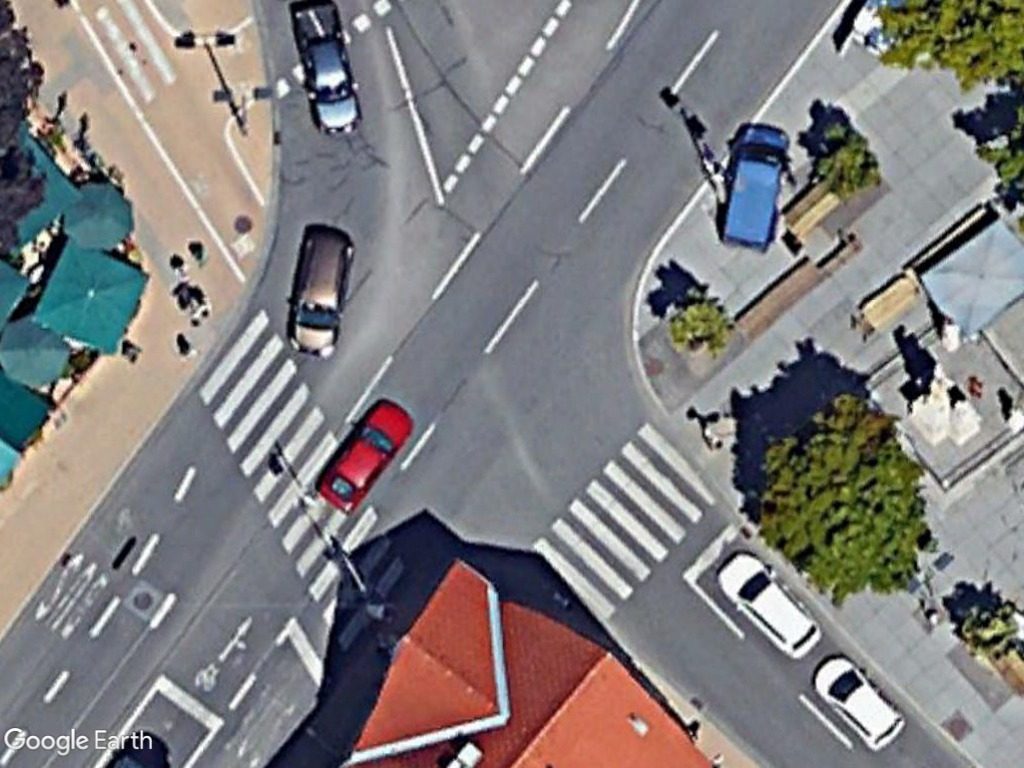car: (714, 548, 828, 664), (308, 392, 413, 516), (807, 649, 911, 756), (287, 4, 365, 141), (286, 219, 354, 363)
van: (712, 118, 791, 255)
